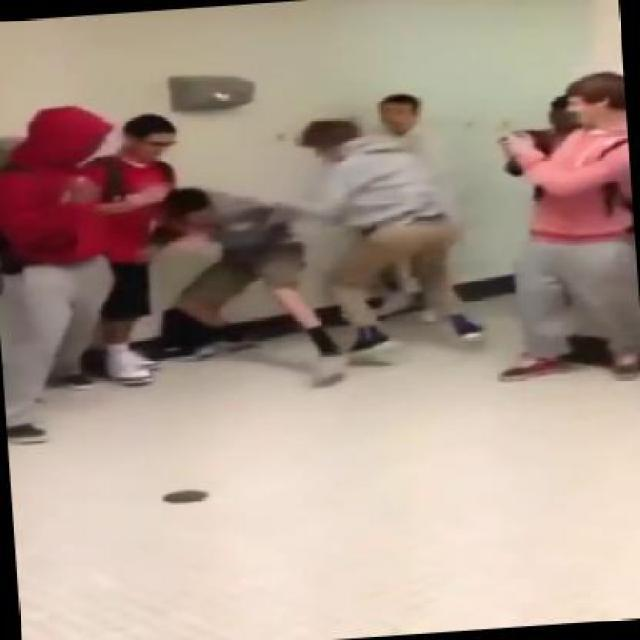fight: (156, 110, 493, 388)
non-fight: (0, 100, 138, 451), (496, 70, 638, 392)
